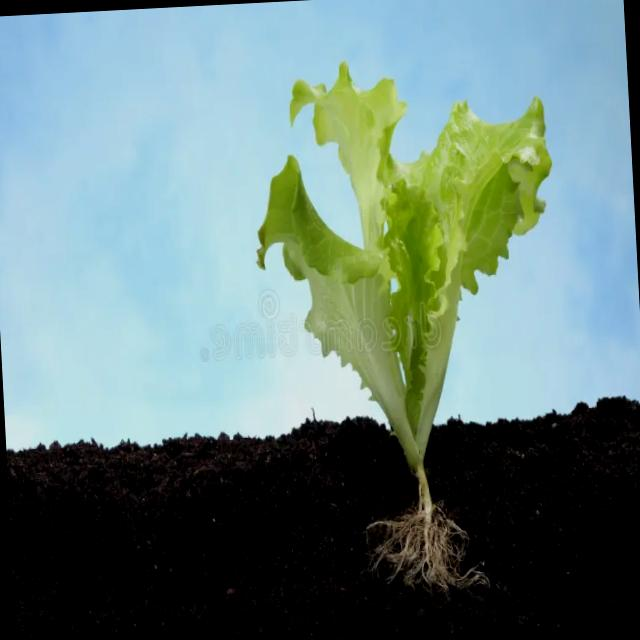inmadura: (258, 63, 552, 593)
